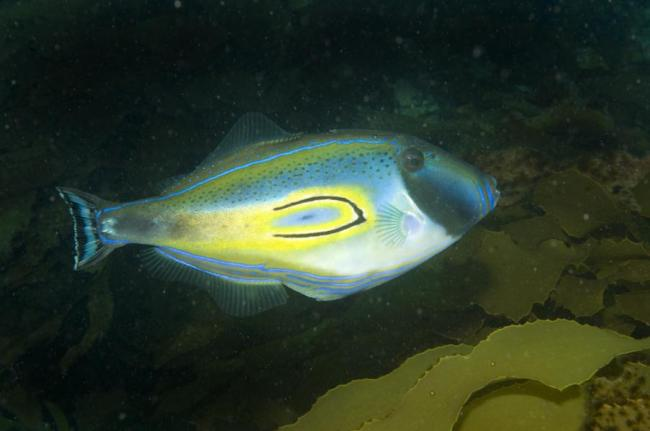fish: (55, 111, 500, 319)
